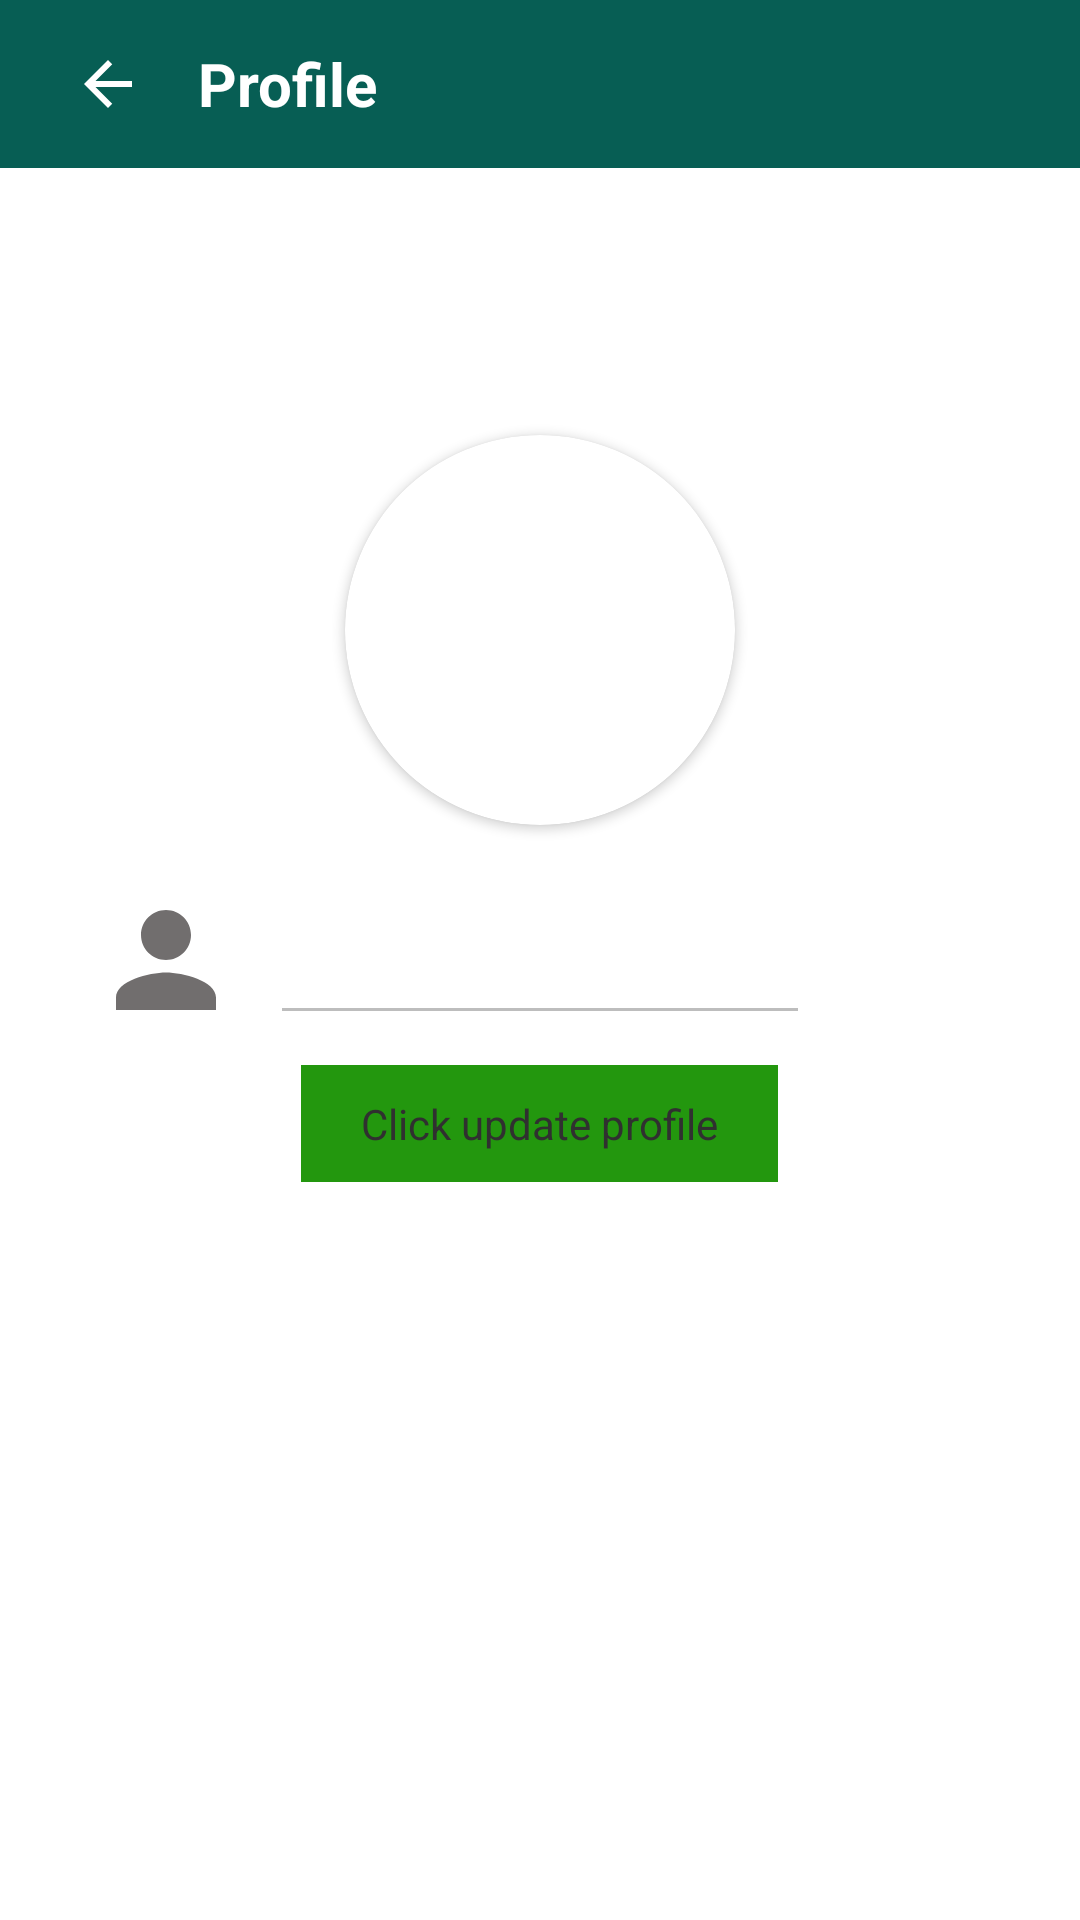

Where icons sit on this 1080px x 1920px app screen, as (x1, y1, x2, y2):
arrow back: (84, 60, 132, 108)
person: (116, 910, 216, 1010)
